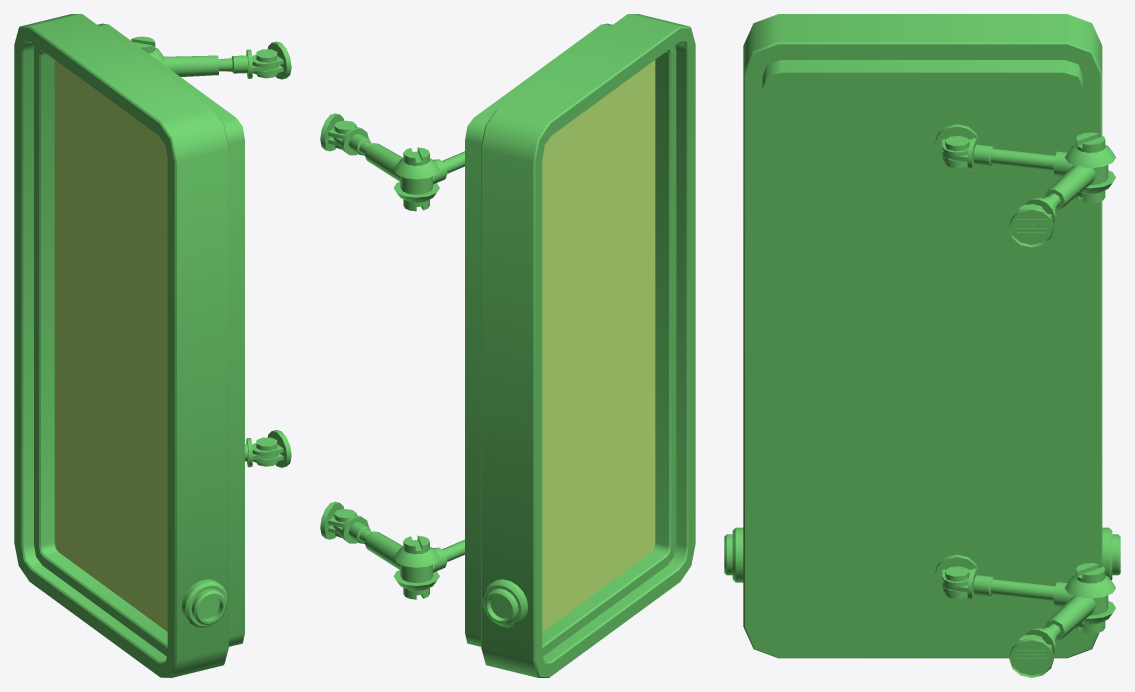
File: Television_Metal_01.fbx
3 renders of one model, left to right at view 1: azimuth 30°, elevation 25°; view 2: azimuth 150°, elevation 25°; view 3: azimuth 270°, elevation 25°, orthographic. The views are drawn at different scales.
Visible parts, largest first — view 1: Television_Metal_01_LOD0; view 2: Television_Metal_01_LOD0; view 3: Television_Metal_01_LOD0.
Boxes of the visible parts, x1=… form: Television_Metal_01_LOD0: x1=14, y1=14, x2=291, y2=677; Television_Metal_01_LOD0: x1=320, y1=14, x2=695, y2=677; Television_Metal_01_LOD0: x1=724, y1=14, x2=1120, y2=677.
Bounding box in the file's own units: 88.07 × 201 × 115.
